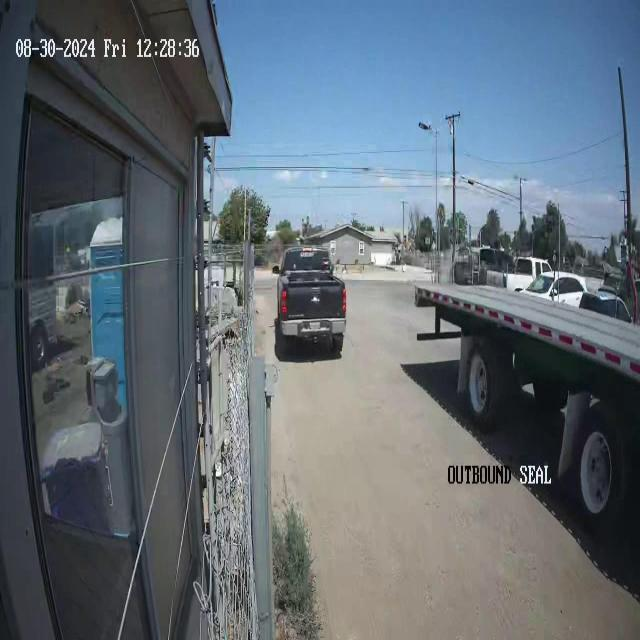TRUCK_IN: (411, 280, 640, 555)
